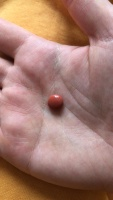Dolorex: (46, 93, 64, 112)
